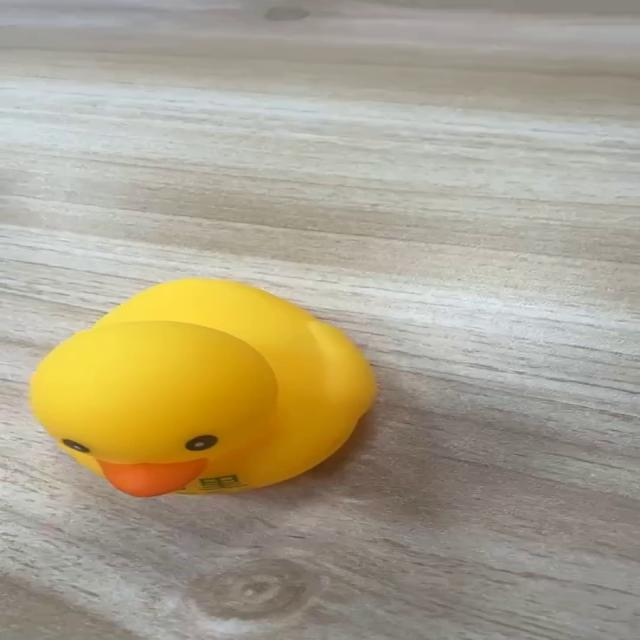yellow_duck: (26, 276, 377, 497)
